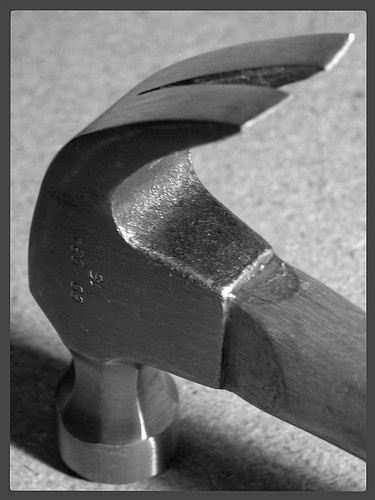hammer: (27, 33, 374, 485)
